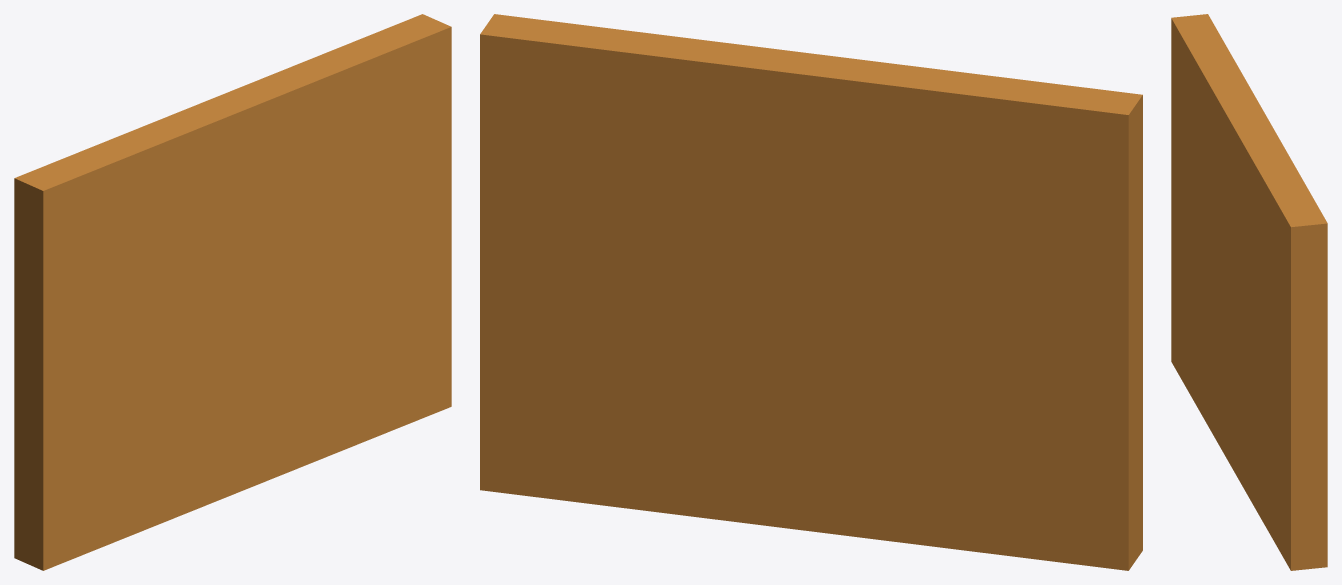
3 renders of one model, left to right at view 1: azimuth 30°, elevation 25°; view 2: azimuth 150°, elevation 25°; view 3: azimuth 270°, elevation 25°, orthographic. The views are drawn at different scales.
Parts seen in each view (by area): view 1: GF-A-OPEN-07-00-SILL; view 2: GF-A-OPEN-07-00-SILL; view 3: GF-A-OPEN-07-00-SILL.
Part boxes in pixels (x1,y1,x2,y2): GF-A-OPEN-07-00-SILL: (14, 14, 451, 570); GF-A-OPEN-07-00-SILL: (480, 14, 1142, 570); GF-A-OPEN-07-00-SILL: (1171, 14, 1327, 570).
Size of the model in its own units: 1.2 by 0.9 by 0.3716.
